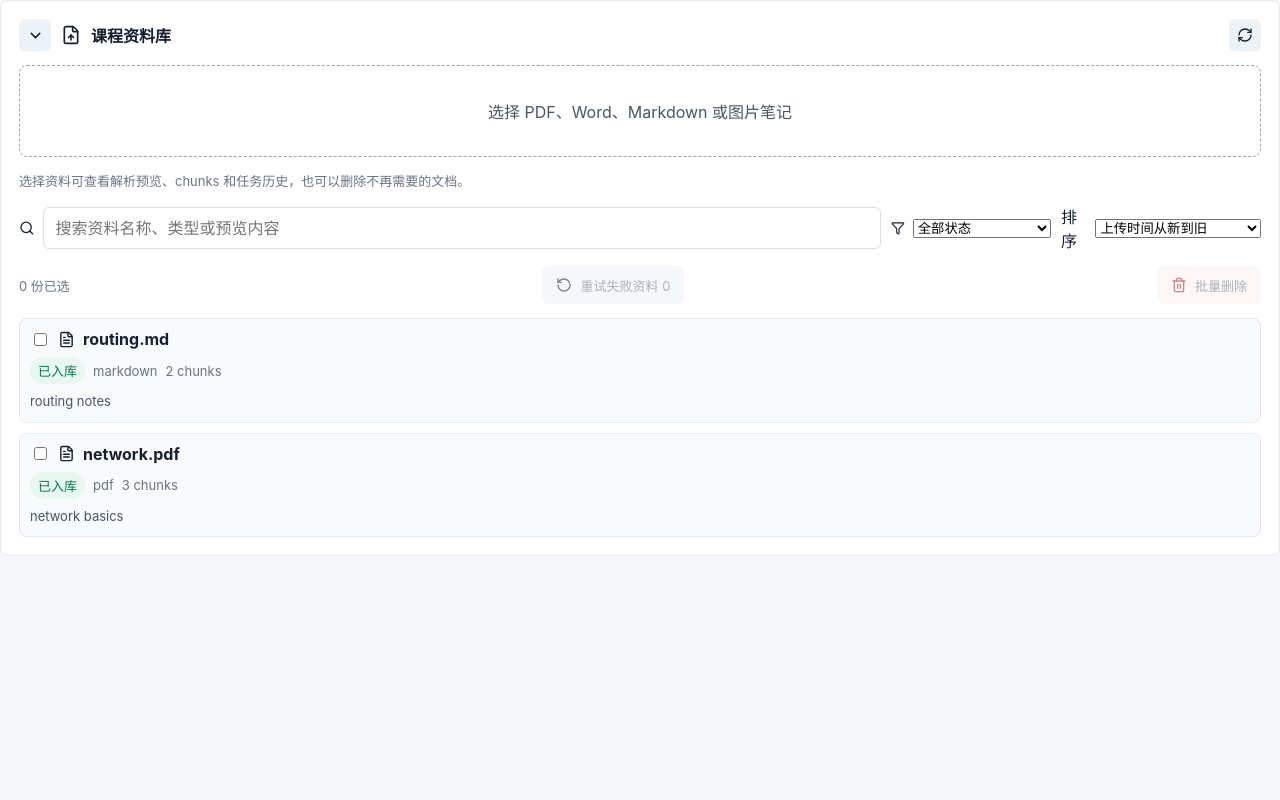
it: UploadPanel › deletes selected documents as a batch and clears removed rows
This screenshot has width=1280, height=800.
Step 1. Click the checkbox with test id "document-select" next to "routing.md" → (40, 339), box [34,332,47,346]
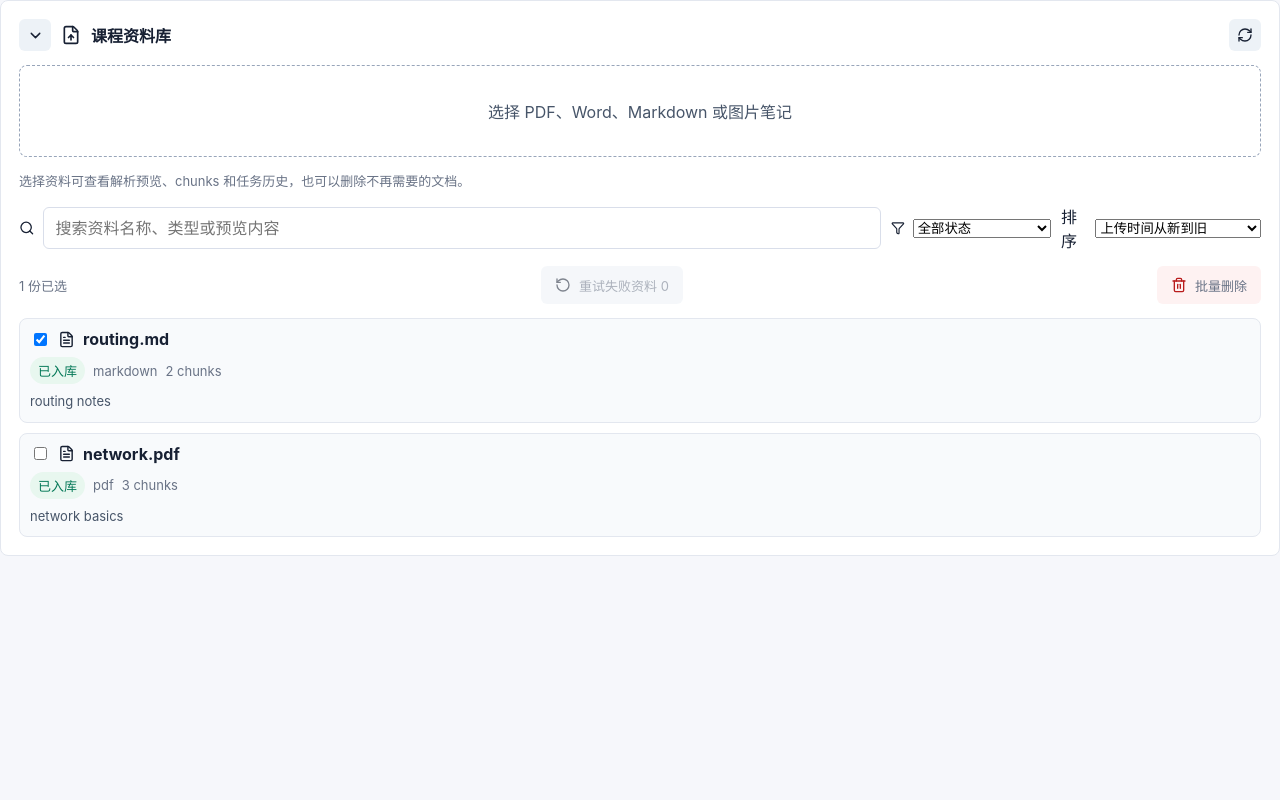
Step 2. Click the checkbox with test id "document-select" next to "network.pdf" → (40, 454), box [34,447,47,460]
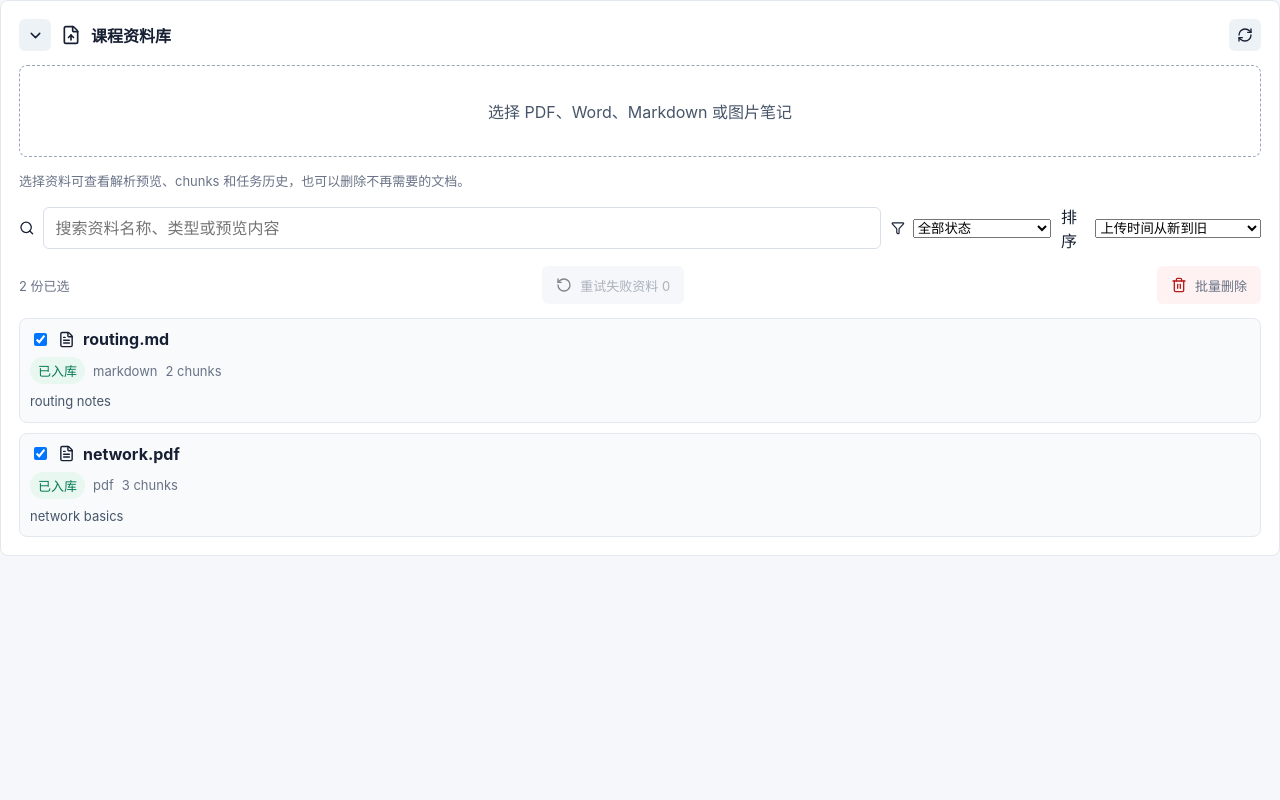
Step 3. Click the button titled "批量删除资料" → (1209, 285), box [1157,266,1261,304]
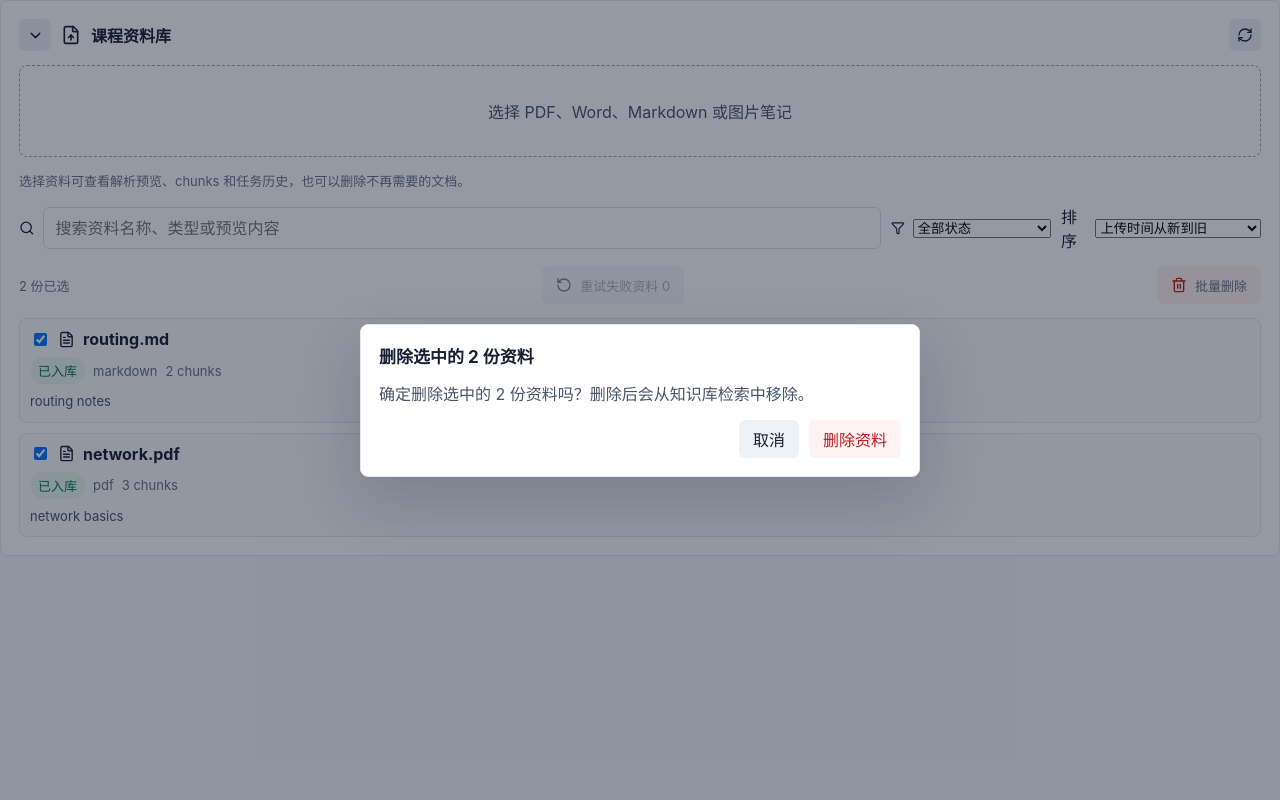
Check: the text "删除选中的 2 份资料" is shown, box [379,346,534,366]
Step 4. Click the button with test id "modal-confirm" → (855, 438), box [809,420,901,458]
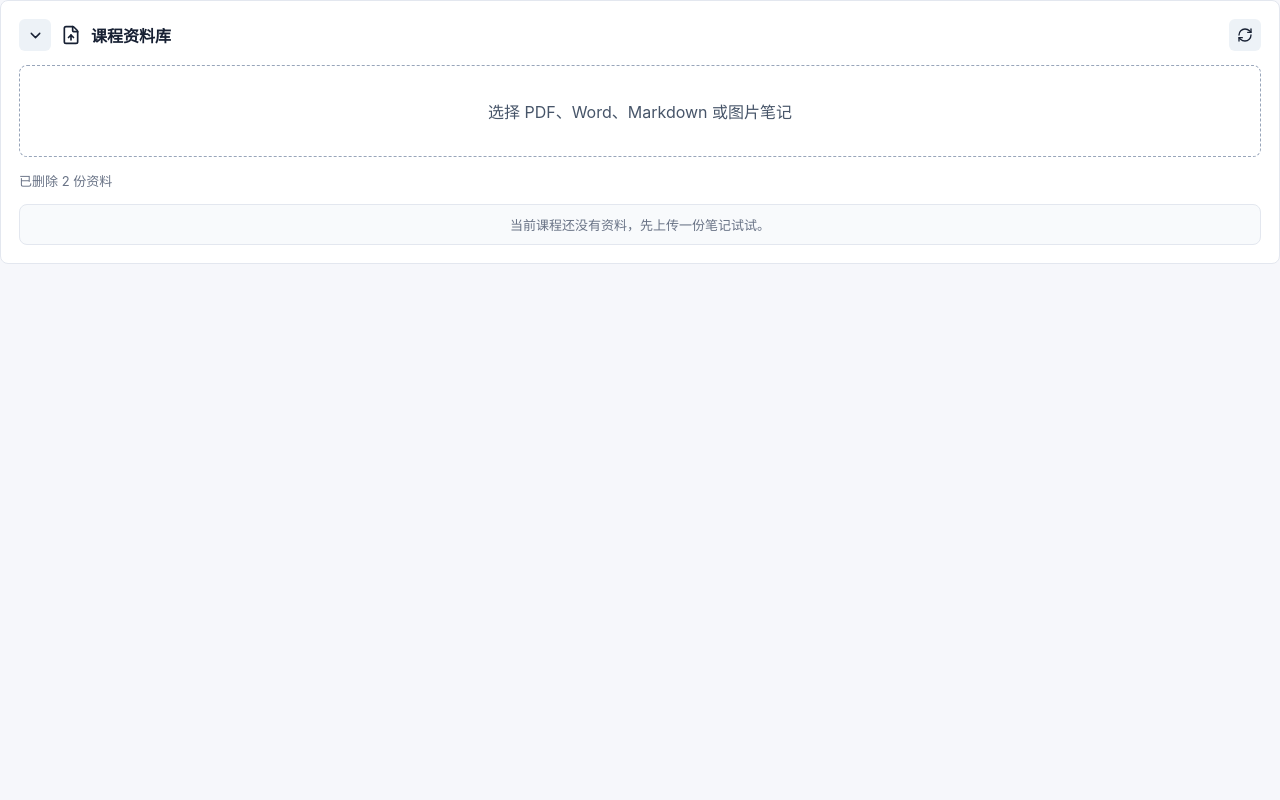
Check: the text "network.pdf" is gone
Check: the text "routing.md" is gone
